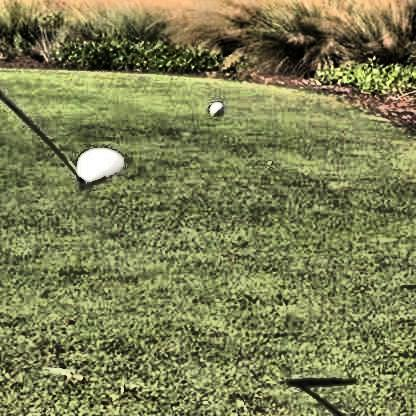golfball: (207, 98, 222, 114)
